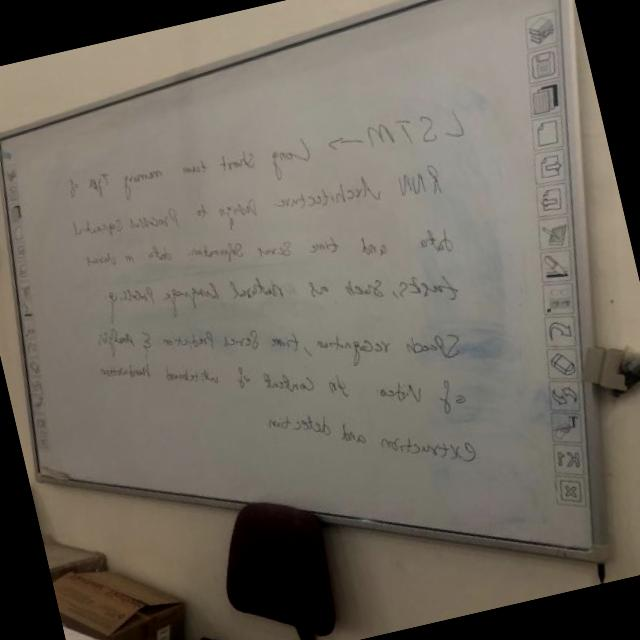White-board: (1, 0, 593, 552)
